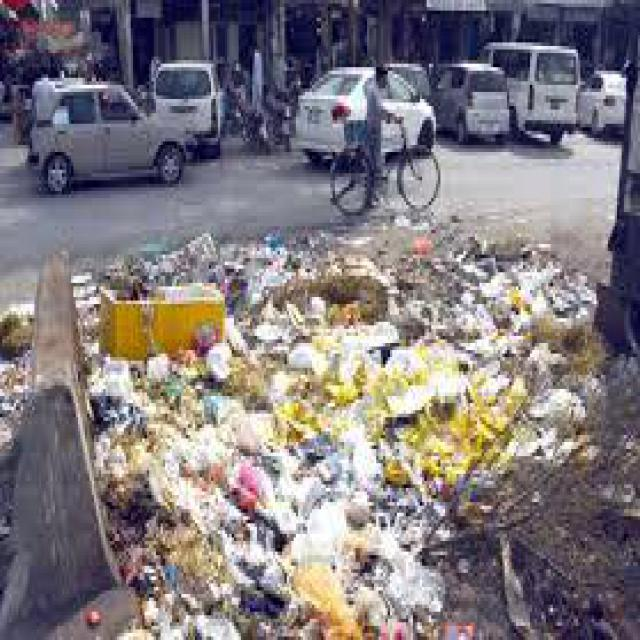garbage: (92, 265, 445, 637), (443, 255, 592, 449)
